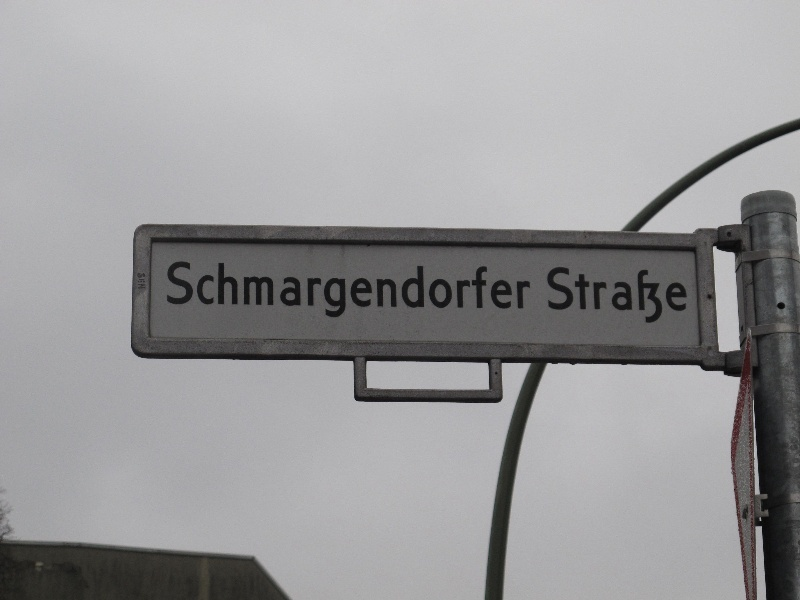text: (177, 261, 192, 322), (193, 261, 208, 322), (209, 261, 224, 322), (225, 261, 240, 322), (241, 261, 256, 322), (257, 261, 272, 322), (273, 261, 288, 322), (289, 261, 304, 322), (305, 261, 320, 322), (321, 261, 336, 322), (337, 261, 352, 322), (353, 261, 368, 322), (369, 261, 384, 322), (385, 261, 400, 322), (401, 261, 416, 322), (417, 261, 432, 322), (433, 261, 448, 322), (449, 261, 464, 322), (465, 261, 480, 322), (481, 261, 496, 322), (497, 261, 512, 322), (513, 261, 528, 322), (545, 269, 560, 326), (561, 269, 576, 326), (577, 269, 592, 326), (593, 269, 608, 326), (609, 269, 624, 326), (625, 269, 640, 326), (641, 269, 656, 326), (657, 269, 672, 326), (673, 269, 688, 326), (167, 261, 176, 322), (689, 269, 692, 326), (529, 261, 531, 322), (137, 273, 144, 289)
